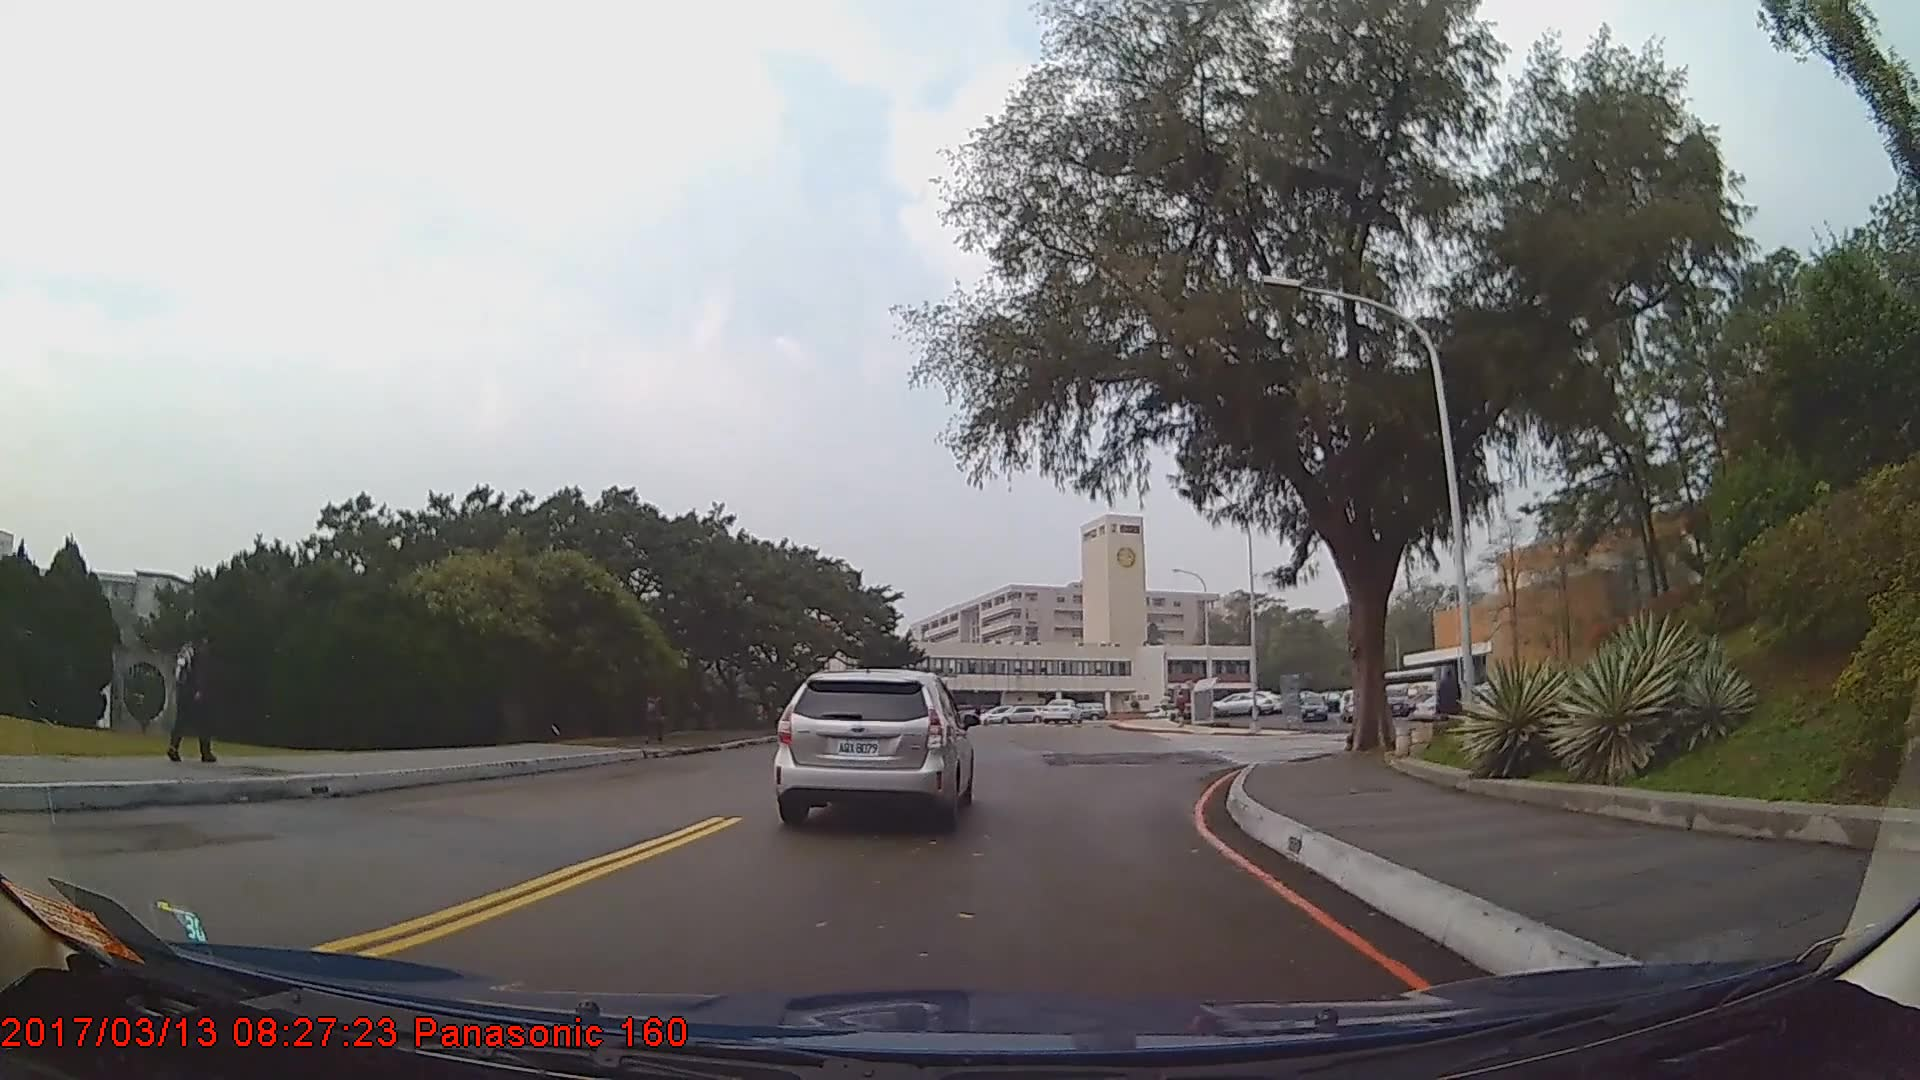pedestrian: (165, 627, 227, 764), (1432, 658, 1472, 771)
vehicle: (775, 669, 973, 830), (1211, 690, 1272, 718), (986, 702, 1050, 726), (1039, 697, 1085, 724), (1383, 689, 1413, 718), (1298, 696, 1327, 725)
